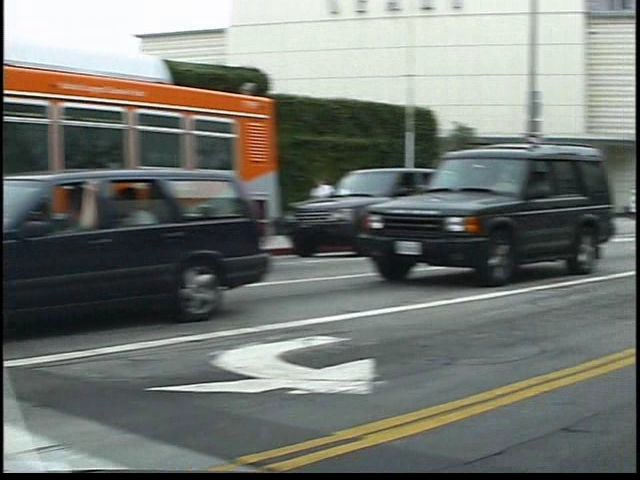person: (328, 175, 358, 244)
